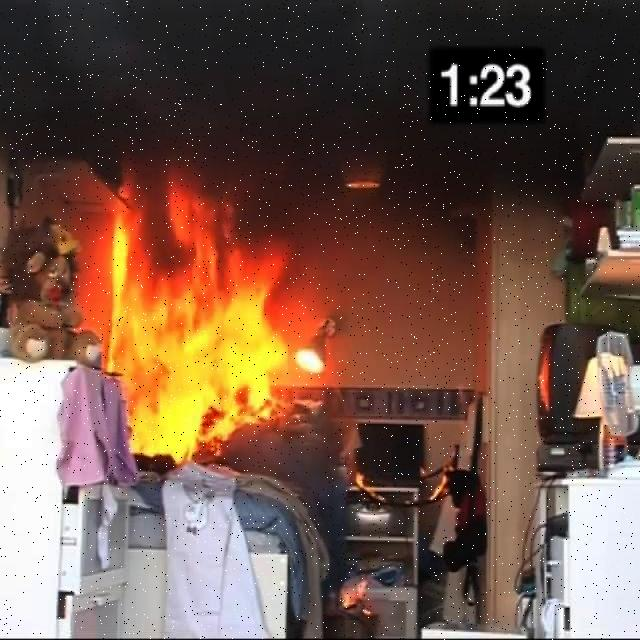fire: (107, 169, 310, 463)
smoke: (12, 6, 424, 156)
